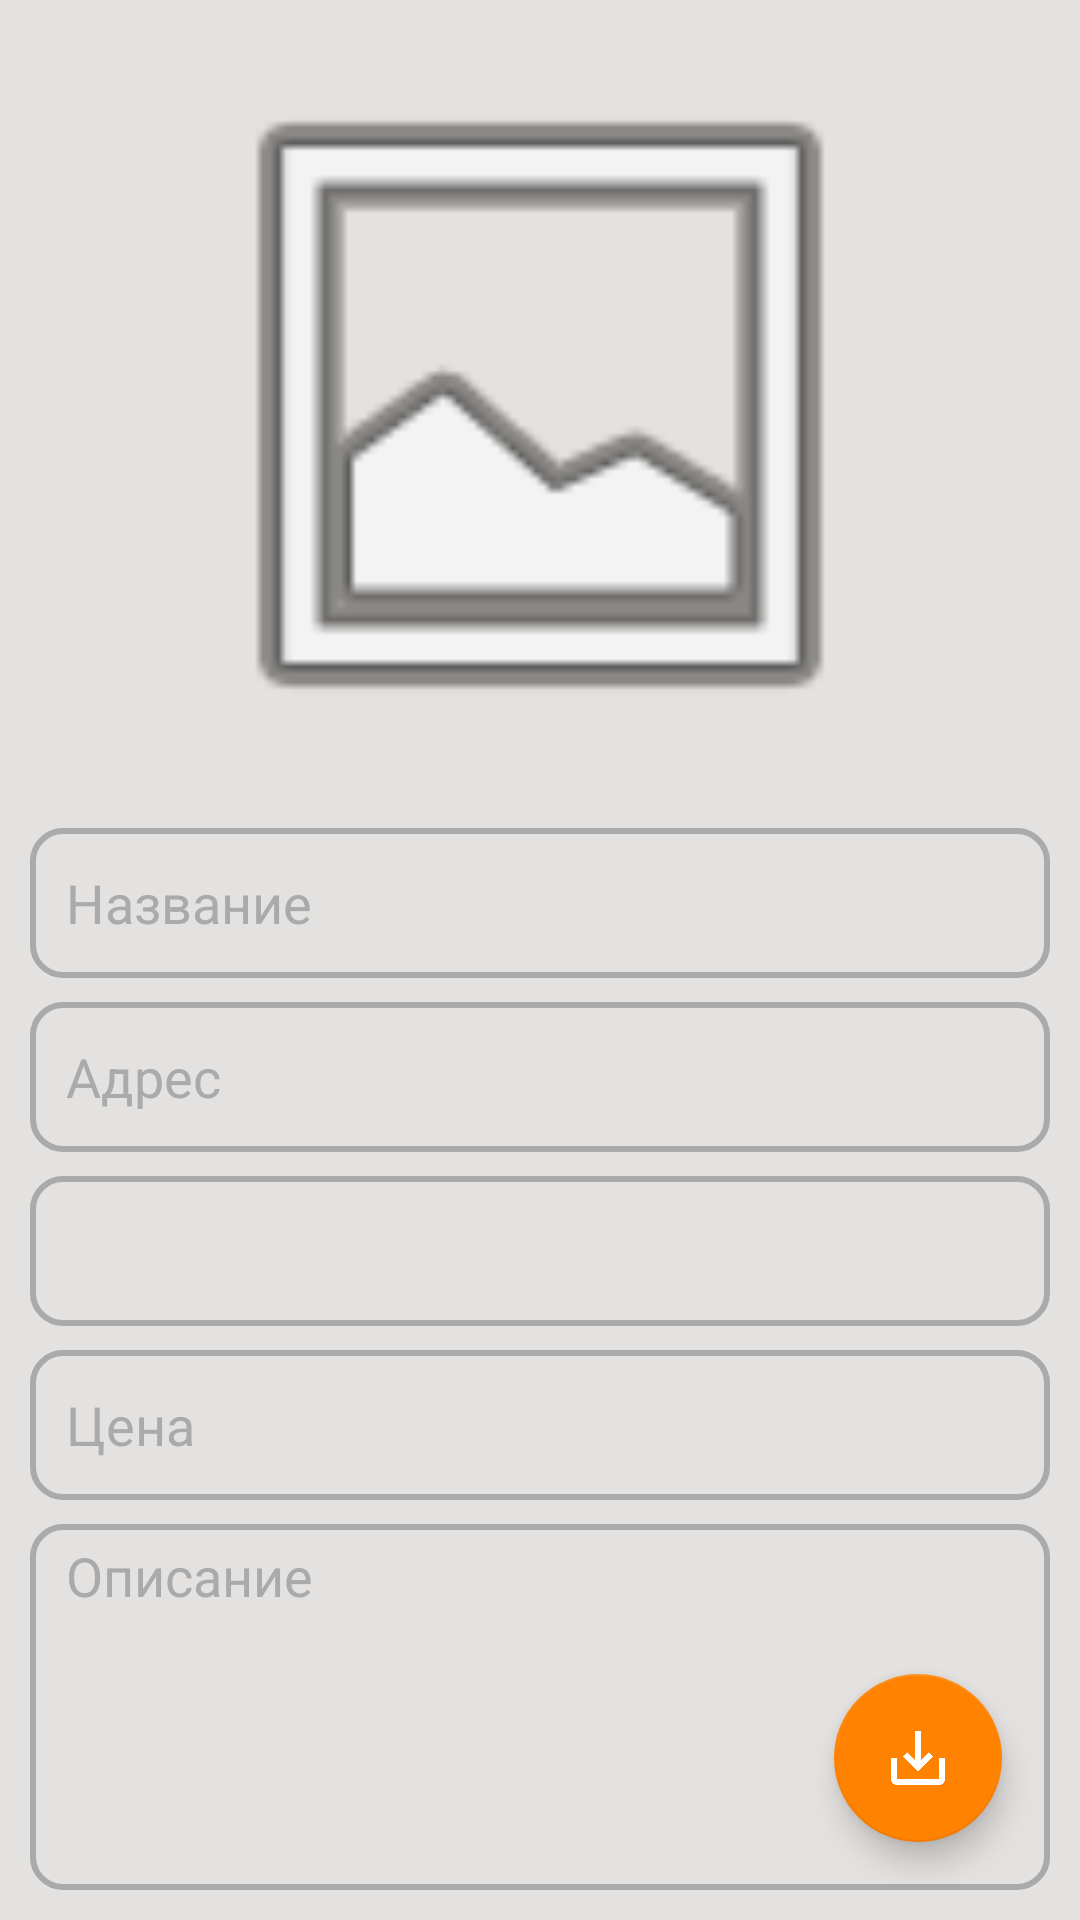

Screen size 1080px×1920px. Icon name, then its box in pixels as (x1,y1,x2,y2):
save: (834,1674,1002,1842)
